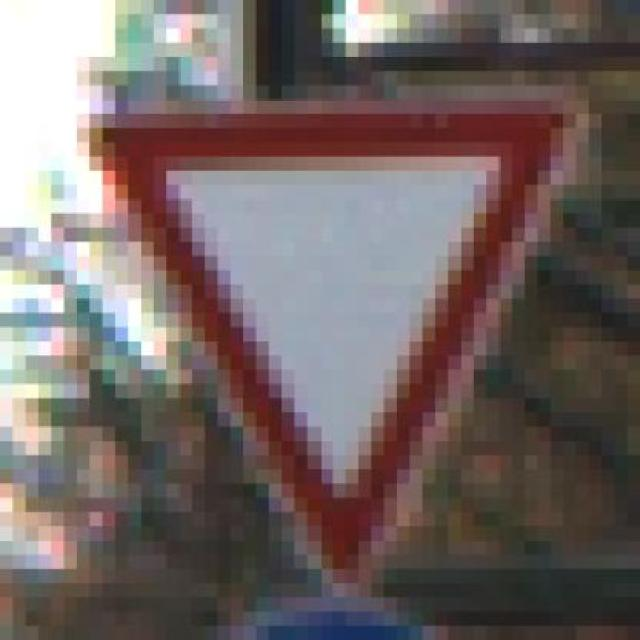Give Way: (51, 71, 602, 583)
